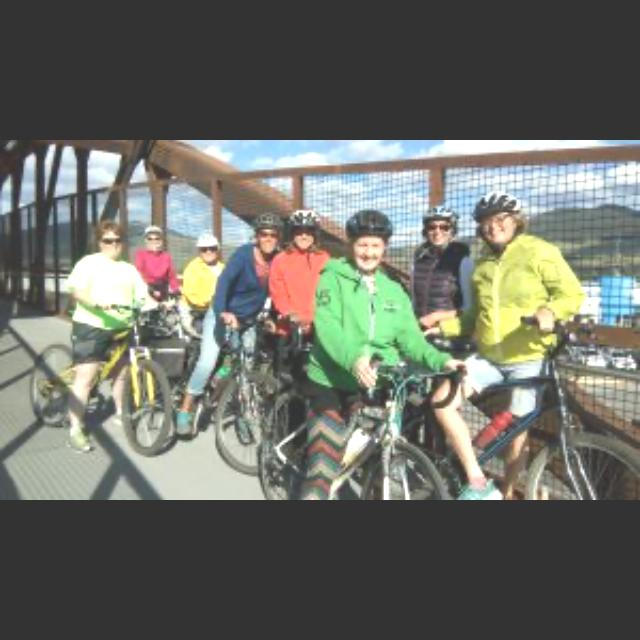With Helmet: (340, 204, 392, 270), (416, 200, 458, 247), (286, 203, 318, 250), (252, 207, 280, 256)
Without Helmet: (92, 216, 126, 258), (190, 228, 220, 262)
